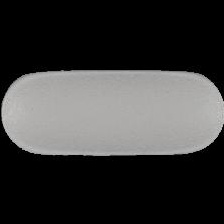50436-0377: (0, 0, 224, 224)
